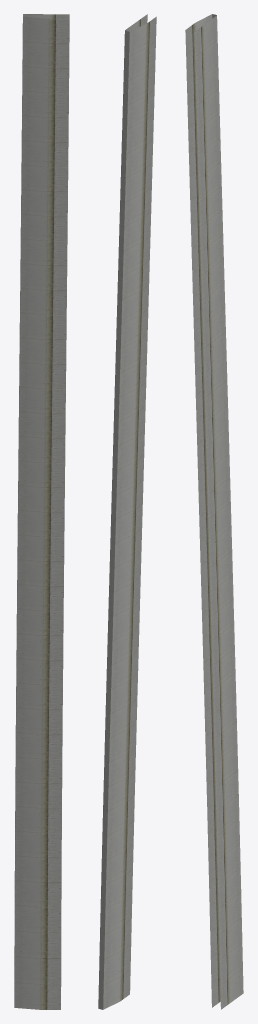
Rendered from _1WALL_small01_05_SUB0.obj.
3 renders of one model, left to right at view 1: azimuth 90°, elevation 25°; view 2: azimuth 150°, elevation 25°; view 3: azimuth 330°, elevation 25°, orthographic. The views are drawn at different scales.
Parts seen in each view (by area): view 1: _1WALL_small01_05_SUB0_Scene.309; view 2: _1WALL_small01_05_SUB0_Scene.309; view 3: _1WALL_small01_05_SUB0_Scene.309.
Boxes of the visible parts, x1,y1,x2,y2 form: _1WALL_small01_05_SUB0_Scene.309: [14, 14, 69, 1009]; _1WALL_small01_05_SUB0_Scene.309: [98, 14, 156, 1009]; _1WALL_small01_05_SUB0_Scene.309: [185, 14, 243, 1009].
Bounding box in the file's own units: 135 × 4019 × 201.
